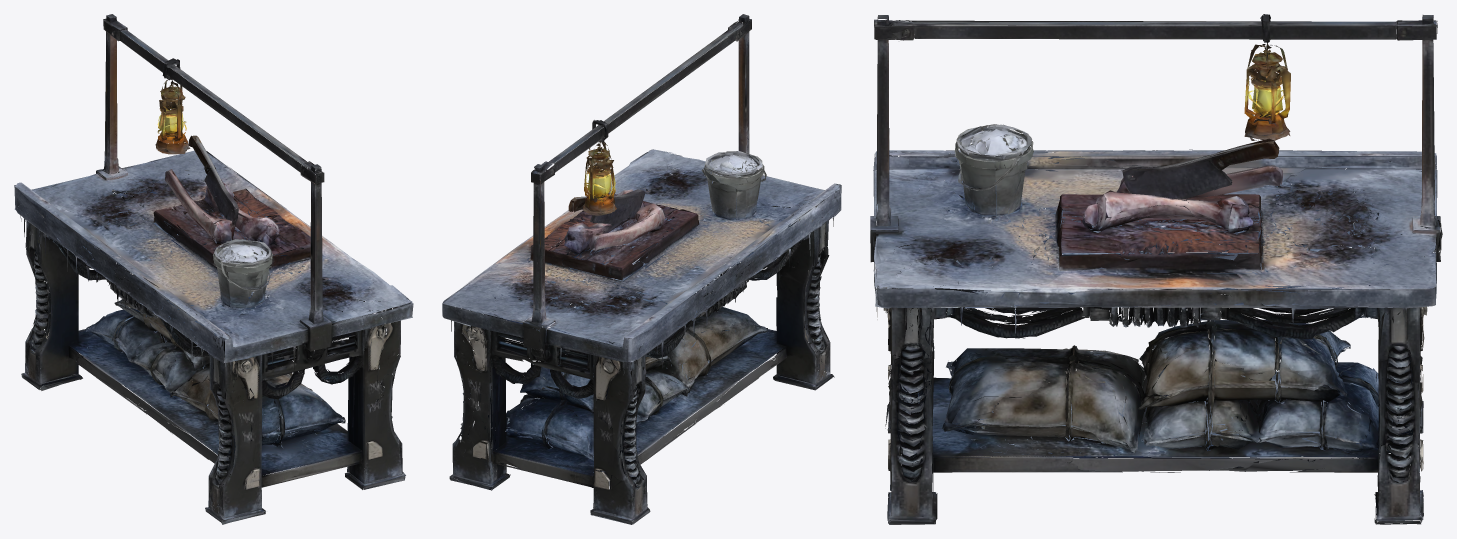
File: cryo_cannibal_butchery_table.glb
3 views of the same model, side by side, from view 1: azimuth 30°, elevation 25°; view 2: azimuth 150°, elevation 25°; view 3: azimuth 270°, elevation 25° (orthographic). The views are drawn at different scales.
Parts seen in each view (by area): view 1: node_0; view 2: node_0; view 3: node_0.
Part boxes in pixels (bbox=[...]): node_0: bbox=[14, 14, 413, 524]; node_0: bbox=[442, 14, 841, 524]; node_0: bbox=[870, 14, 1442, 524].
Size of the model in its own units: 0.4611 by 0.7617 by 0.8769.
Materials: 1 (1 with a texture image).
